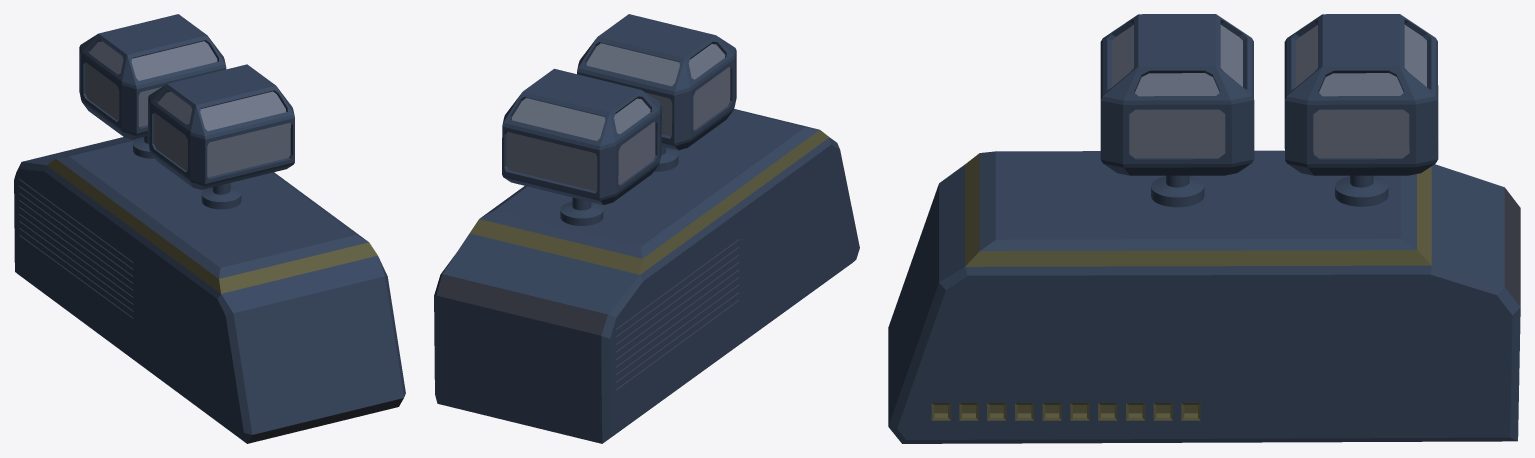
Rendered from 堡垒墙壁小夹层.fbx.
The picture shows the model from 3 angles, left to right: view 1: azimuth 30°, elevation 25°; view 2: azimuth 150°, elevation 25°; view 3: azimuth 270°, elevation 25°; orthographic projection. The views are drawn at different scales.
Visible parts, largest first — view 1: 堡垒墙壁小夹层; view 2: 堡垒墙壁小夹层; view 3: 堡垒墙壁小夹层.
Boxes of the visible parts, box(x1,y1,x2,y2) form: 堡垒墙壁小夹层: box(14, 14, 405, 443); 堡垒墙壁小夹层: box(434, 14, 859, 443); 堡垒墙壁小夹层: box(888, 14, 1520, 443).
Bounding box in the file's own units: 2.38 × 3.72 × 6.01.
